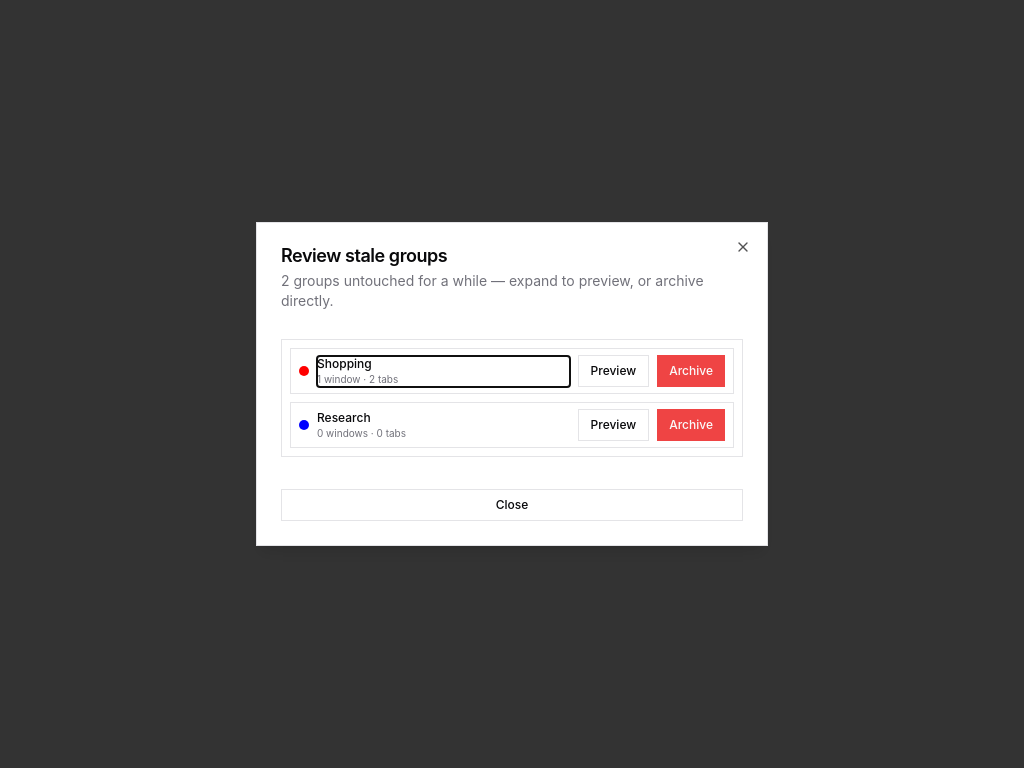
Test: ReviewStaleGroupModal › Preview expands a group to show its tabs, Hide collapses it again
This screenshot has width=1024, height=768.
Expected: the text "Amazon" is not shown
Step 1. Click the 1st button "Preview" → (613, 371), box [578,355,649,387]
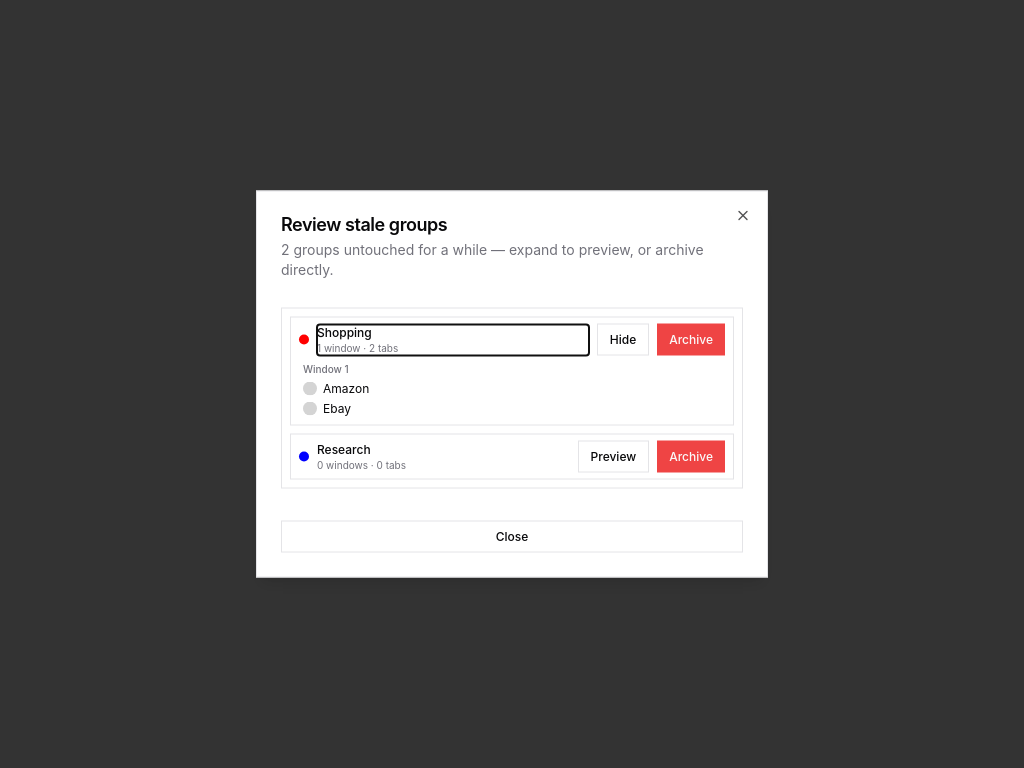
Result: the text "Amazon" is shown at [323,380,369,396]
Step 2. Click the button "Hide" → (623, 340), box [597,324,649,356]
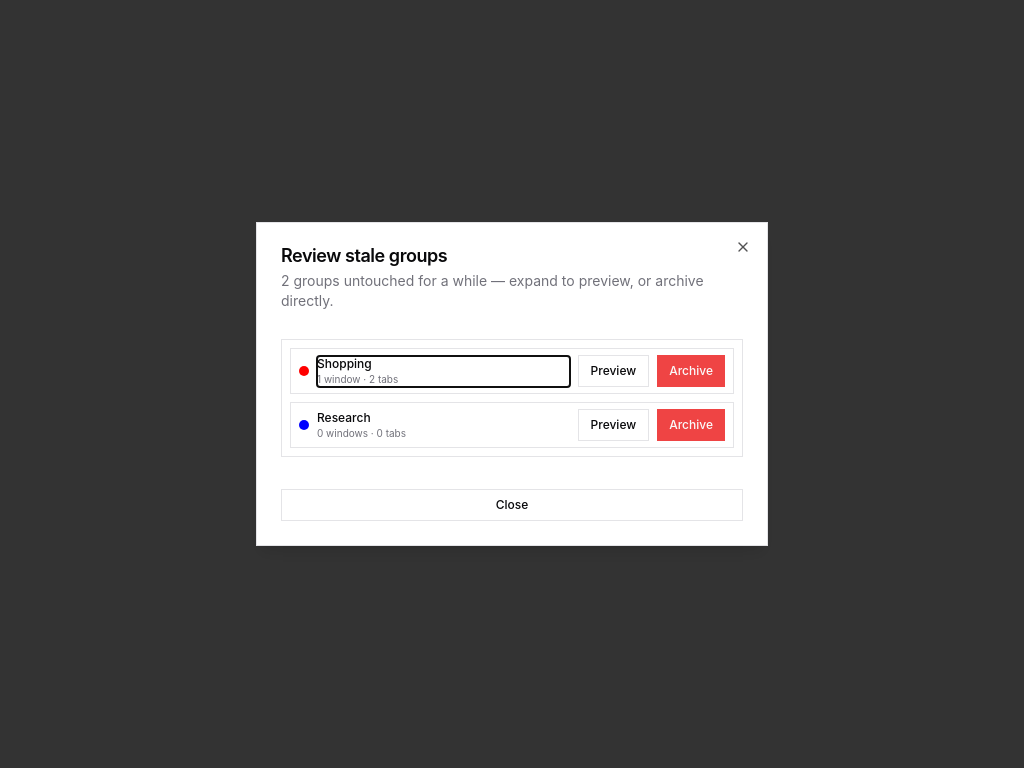
Result: the text "Amazon" is gone
